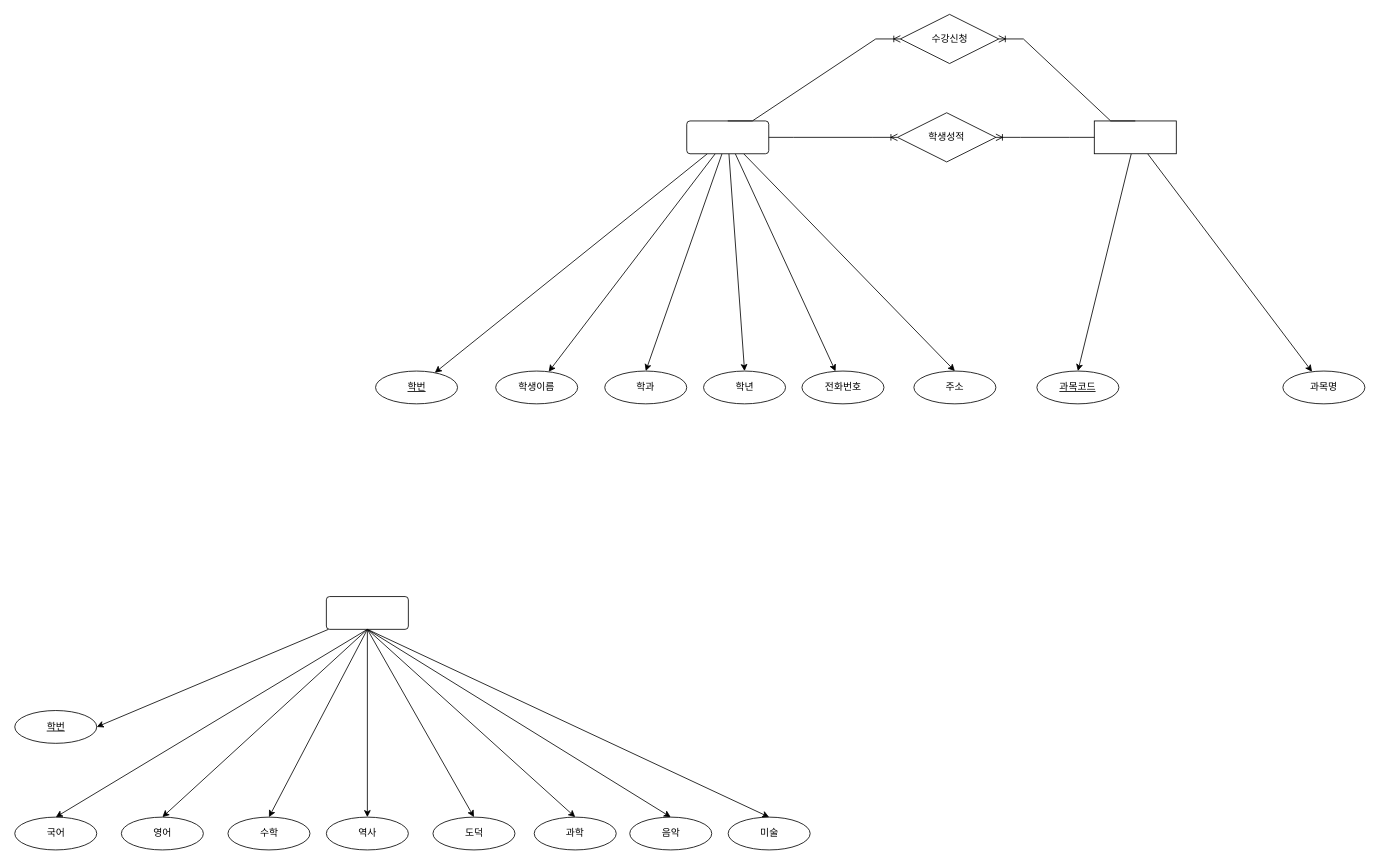
This 1379x864 diagram has some shape labels left out. The centre of each missing label's shape, as x and y in pixels:
"과목정보" belongs at (x=1134, y=137).
"학사정보" belongs at (x=367, y=612).
"학생정보" belongs at (x=727, y=137).
